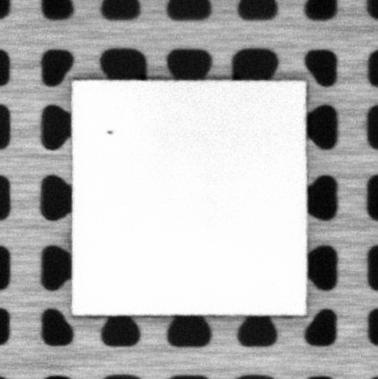DIE_INK: (103, 127, 115, 137)
